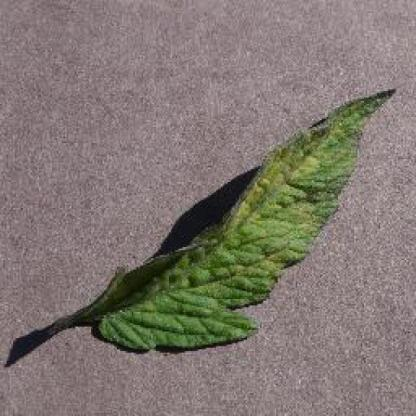Tomato_Leaf_Mold: (94, 89, 394, 350)
